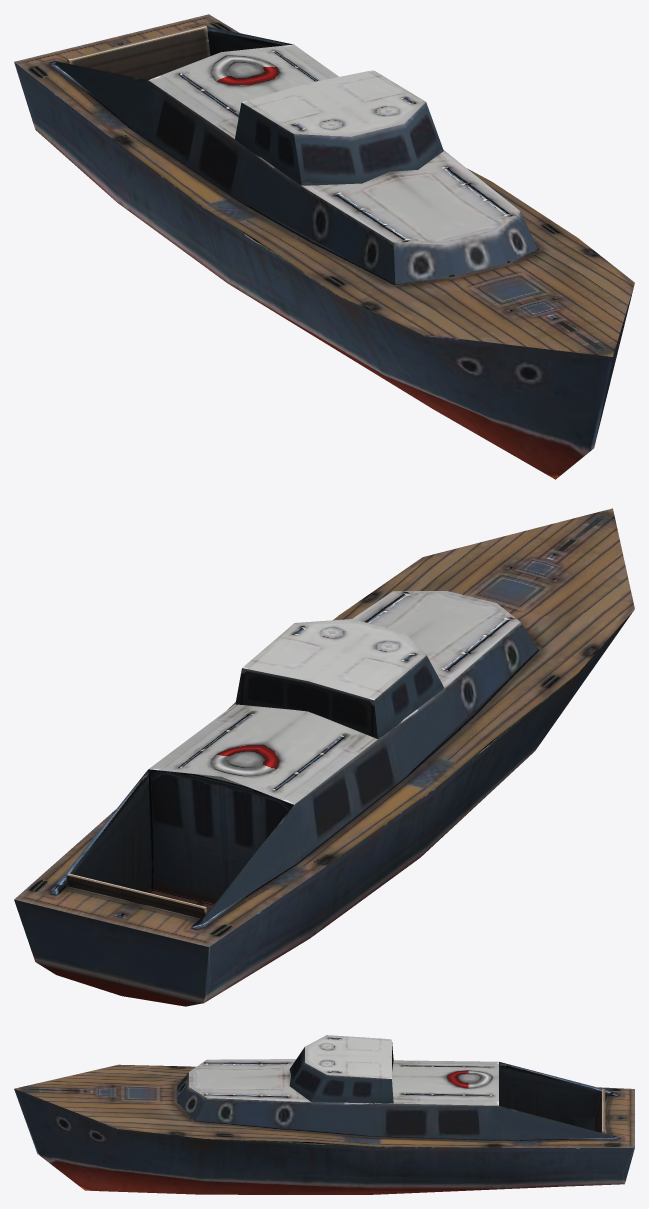
Rendered from Dhz_zsxiaochuan_02.FBX.
The picture shows the model from 3 angles, top to bottom: view 1: azimuth 30°, elevation 25°; view 2: azimuth 150°, elevation 25°; view 3: azimuth 270°, elevation 25°; orthographic projection. The views are drawn at different scales.
Parts seen in each view (by area): view 1: Dhz_zsxiaochuan_02; view 2: Dhz_zsxiaochuan_02; view 3: Dhz_zsxiaochuan_02.
Boxes of the visible parts, x1,y1,x2,y2 form: Dhz_zsxiaochuan_02: (14,14,634,479); Dhz_zsxiaochuan_02: (14,508,634,1006); Dhz_zsxiaochuan_02: (14,1035,634,1194).
Size of the model in its own units: 5.82 by 5.12 by 21.19.
